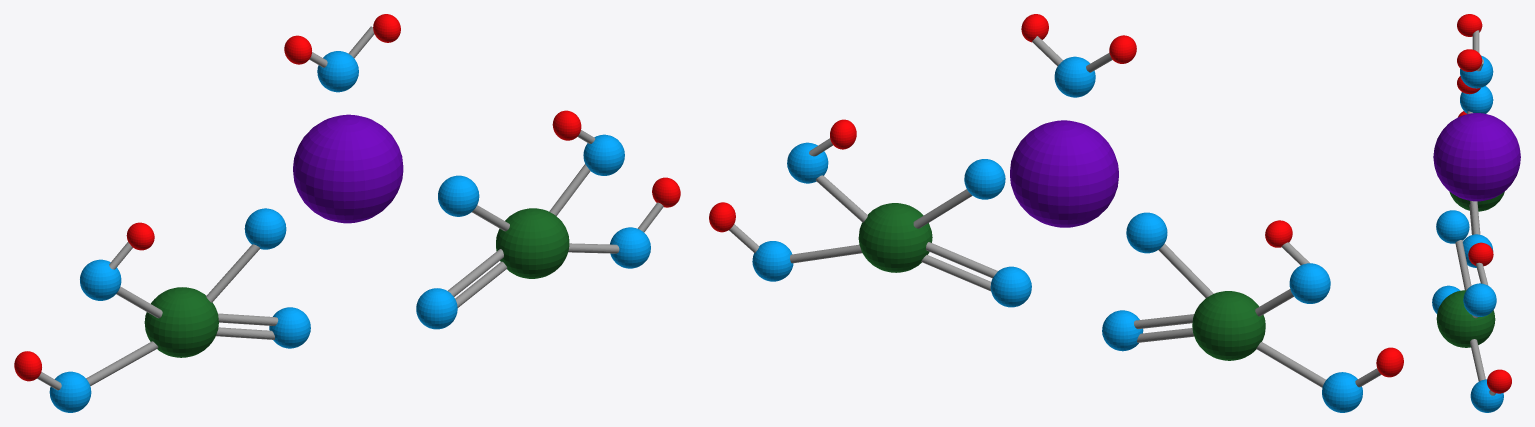
The model's file is superf.gltf.
3 renders of one model, left to right at view 1: azimuth 30°, elevation 25°; view 2: azimuth 150°, elevation 25°; view 3: azimuth 270°, elevation 25°, orthographic. The views are drawn at different scales.
Parts seen in each view (by area): view 1: Sphere.001, Sphere.005, Sphere, Sphere.008, Sphere.012, Sphere.009, Sphere.007, Sphere.004, Sphere.015, Sphere.002, Sphere.006, Sphere.003 (+10 smaller); view 2: Sphere.001, Sphere, Sphere.005, Sphere.009, Sphere.012, Sphere.004, Sphere.008, Sphere.002, Sphere.006, Sphere.015, Sphere.003, Sphere.007 (+9 smaller); view 3: Sphere.001, Sphere.005, Sphere.007, Sphere.012, Sphere.006, Sphere.004, Sphere.015, Sphere.013, Sphere.017, Sphere.014, Sphere.016, Sphere (+8 smaller).
Part boxes in pixels (<box>): Sphere.001: <box>293,114,403,223</box>; Sphere.005: <box>496,208,569,278</box>; Sphere: <box>144,287,218,357</box>; Sphere.008: <box>416,288,457,329</box>; Sphere.012: <box>438,175,479,216</box>; Sphere.009: <box>244,208,286,249</box>; Sphere.007: <box>583,134,624,175</box>; Sphere.004: <box>80,259,121,300</box>; Sphere.015: <box>317,51,358,92</box>; Sphere.002: <box>49,371,91,412</box>; Sphere.006: <box>610,227,650,268</box>; Sphere.003: <box>269,307,310,348</box>; Sphere.001: <box>1010,120,1118,227</box>; Sphere: <box>1192,291,1265,360</box>; Sphere.005: <box>858,203,932,272</box>; Sphere.009: <box>1126,212,1167,253</box>; Sphere.012: <box>964,159,1005,199</box>; Sphere.004: <box>1289,263,1330,303</box>; Sphere.008: <box>990,266,1031,307</box>; Sphere.002: <box>1322,372,1362,412</box>; Sphere.006: <box>752,241,793,281</box>; Sphere.015: <box>1054,56,1095,97</box>; Sphere.003: <box>1102,310,1143,351</box>; Sphere.007: <box>787,142,828,183</box>; Sphere.001: <box>1433,113,1520,201</box>; Sphere.005: <box>1436,290,1495,347</box>; Sphere.007: <box>1463,283,1496,316</box>; Sphere.012: <box>1436,210,1469,243</box>; Sphere.006: <box>1470,379,1503,412</box>; Sphere.004: <box>1460,86,1493,113</box>; Sphere.015: <box>1460,55,1493,88</box>; Sphere.013: <box>1487,369,1511,393</box>; Sphere.017: <box>1457,49,1482,71</box>; Sphere.014: <box>1468,242,1493,266</box>; Sphere.016: <box>1457,14,1482,36</box>; Sphere: <box>1449,191,1504,211</box>.
Size of the model in its own units: 48.68 by 21.99 by 6.79.
